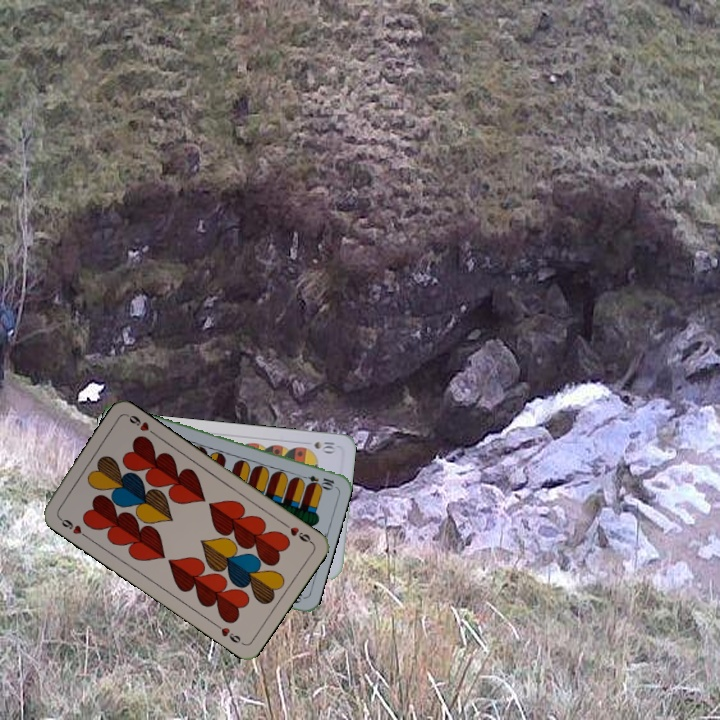E10: (296, 471, 337, 491)
H9: (279, 518, 315, 546), (54, 512, 90, 540)
S10: (310, 438, 338, 455)
